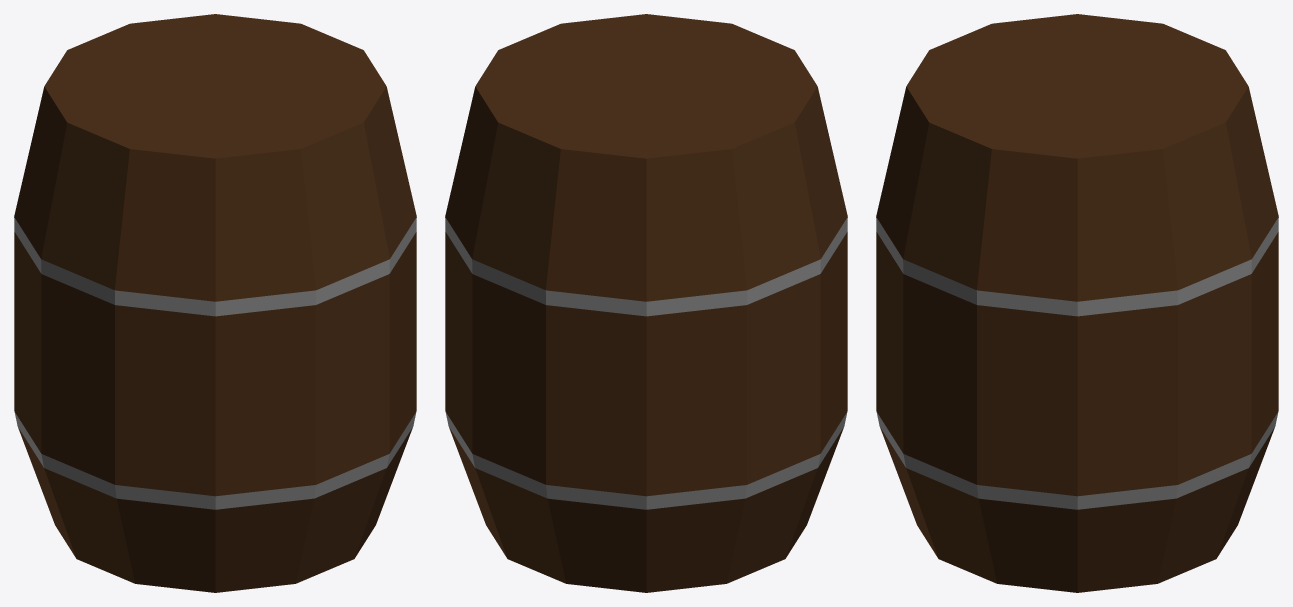
File: barrel.fbx
3 renders of one model, left to right at view 1: azimuth 30°, elevation 25°; view 2: azimuth 150°, elevation 25°; view 3: azimuth 270°, elevation 25°, orthographic.
Parts seen in each view (by area): view 1: Cylinder; view 2: Cylinder; view 3: Cylinder.
Part boxes in pixels (box(x1,y1,x2,y2)): Cylinder: box(14, 14, 416, 592); Cylinder: box(445, 14, 847, 592); Cylinder: box(876, 14, 1278, 592).
Bounding box in the file's own units: 203 × 203 × 245.
